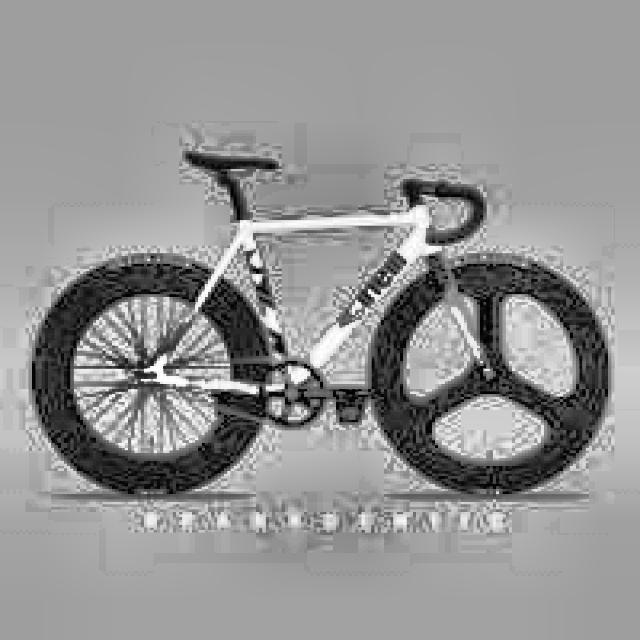motorcycle: (27, 119, 620, 513)
